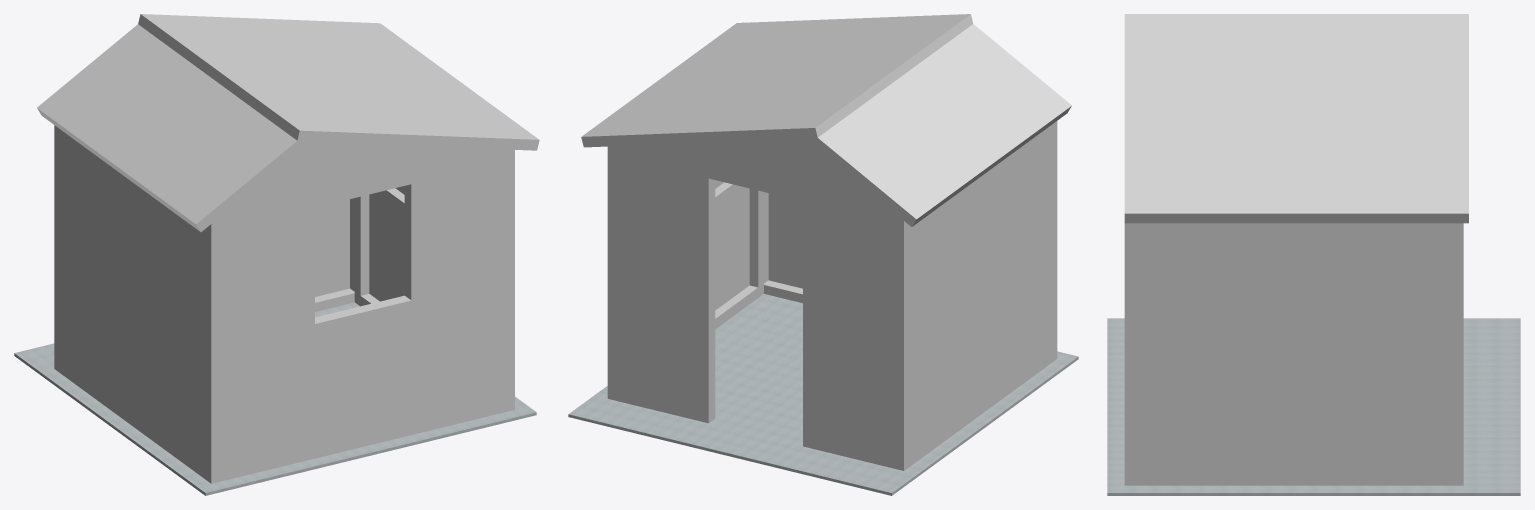
Rendered from House.glb.
3 views of the same model, side by side, from view 1: azimuth 30°, elevation 25°; view 2: azimuth 150°, elevation 25°; view 3: azimuth 270°, elevation 25° (orthographic). The views are drawn at different scales.
Parts seen in each view (by area): view 1: OSB (×6), Solid1 (×6); view 2: OSB (×6), Solid1 (×6); view 3: OSB (×4), Solid1 (×4).
Part boxes in pixels (x1,y1,x2,y2): OSB (×6): (37, 14, 539, 483); Solid1 (×6): (14, 15, 539, 495); OSB (×6): (581, 14, 1071, 470); Solid1 (×6): (568, 16, 1078, 495); OSB (×4): (1124, 14, 1468, 485); Solid1 (×4): (1107, 215, 1520, 495).
Bounding box in the file's own units: 2.49 × 2.32 × 2.4.
2 materials, 1 textured.
